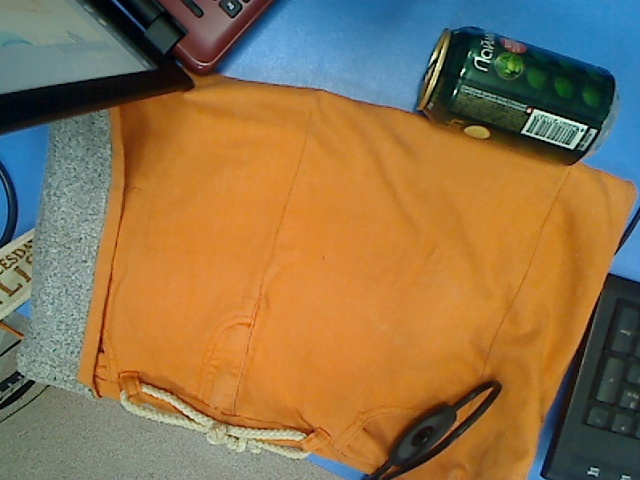can: (413, 25, 623, 169)
